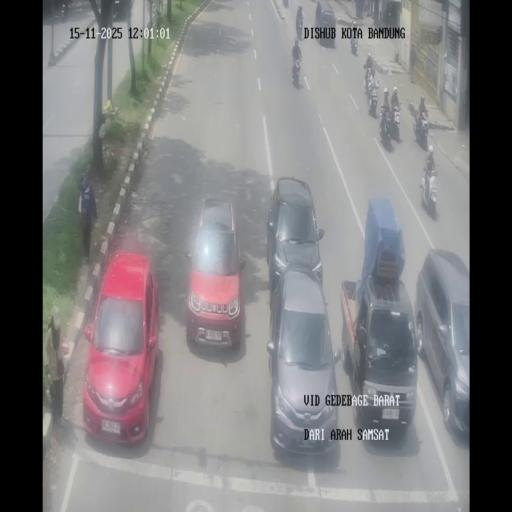3: (342, 200, 418, 435)
car: (82, 253, 159, 444), (266, 266, 340, 457), (414, 252, 470, 440), (266, 175, 326, 297), (315, 0, 336, 47)
truck: (419, 158, 438, 216), (379, 107, 394, 145), (414, 112, 429, 149), (291, 56, 302, 89), (368, 89, 378, 118), (418, 94, 428, 118), (363, 68, 371, 96), (296, 15, 304, 39), (61, 0, 69, 22), (351, 34, 358, 56), (363, 0, 369, 17), (378, 10, 384, 23)
